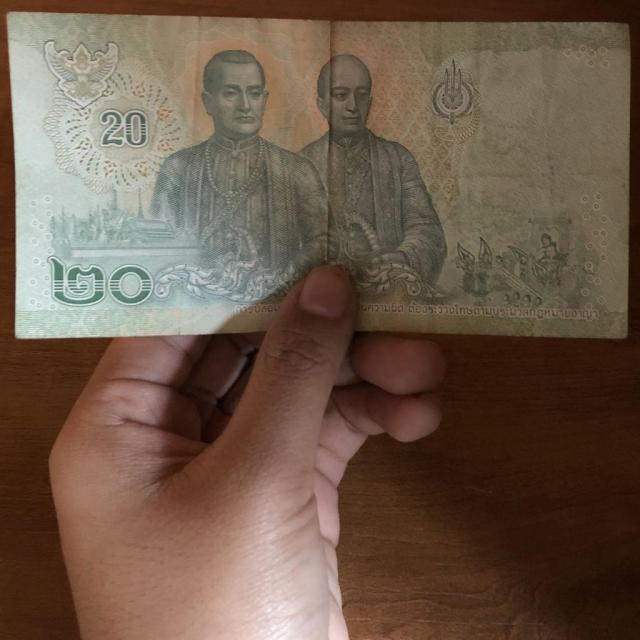THAI20: (6, 12, 631, 342)
